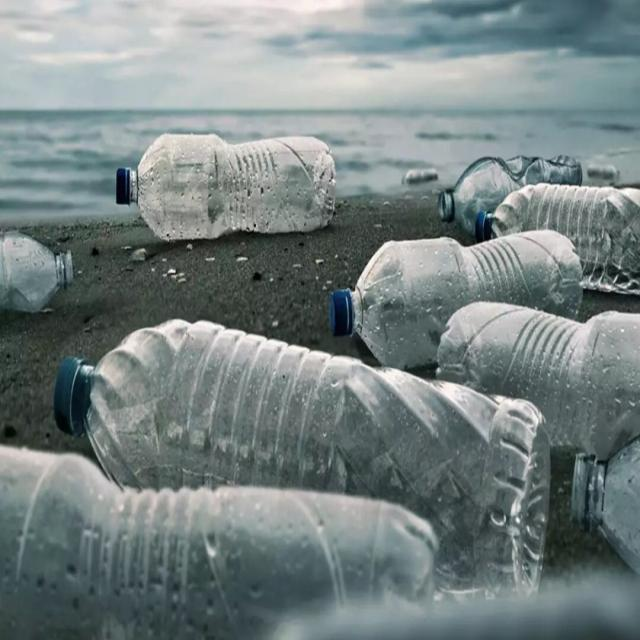plastic_bottle: (47, 298, 566, 610), (94, 116, 343, 272), (336, 223, 590, 371)
